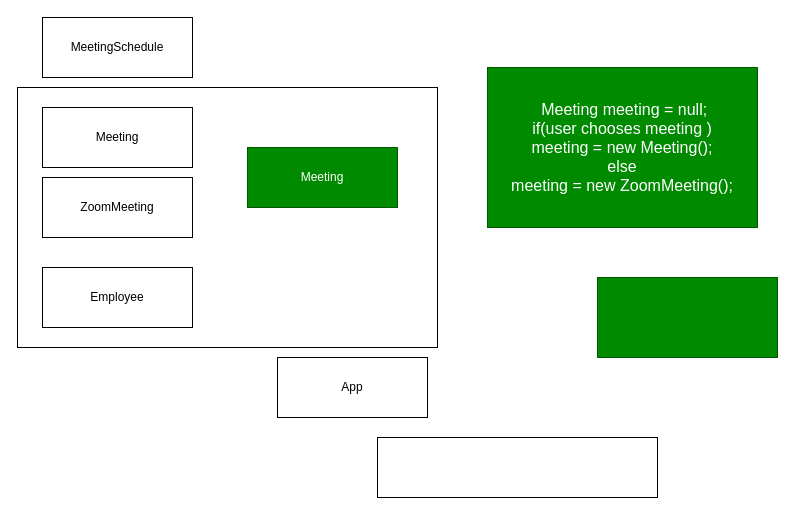
Image size: 795x515. Some labels were removed from this diagram. Here are the shapes that lost their labels. From the top down, the box of each, then its label:
(596, 276, 778, 358): Dynamic Polymorphism
(376, 436, 658, 498): MeetingSchedule meetingSchedule[]
